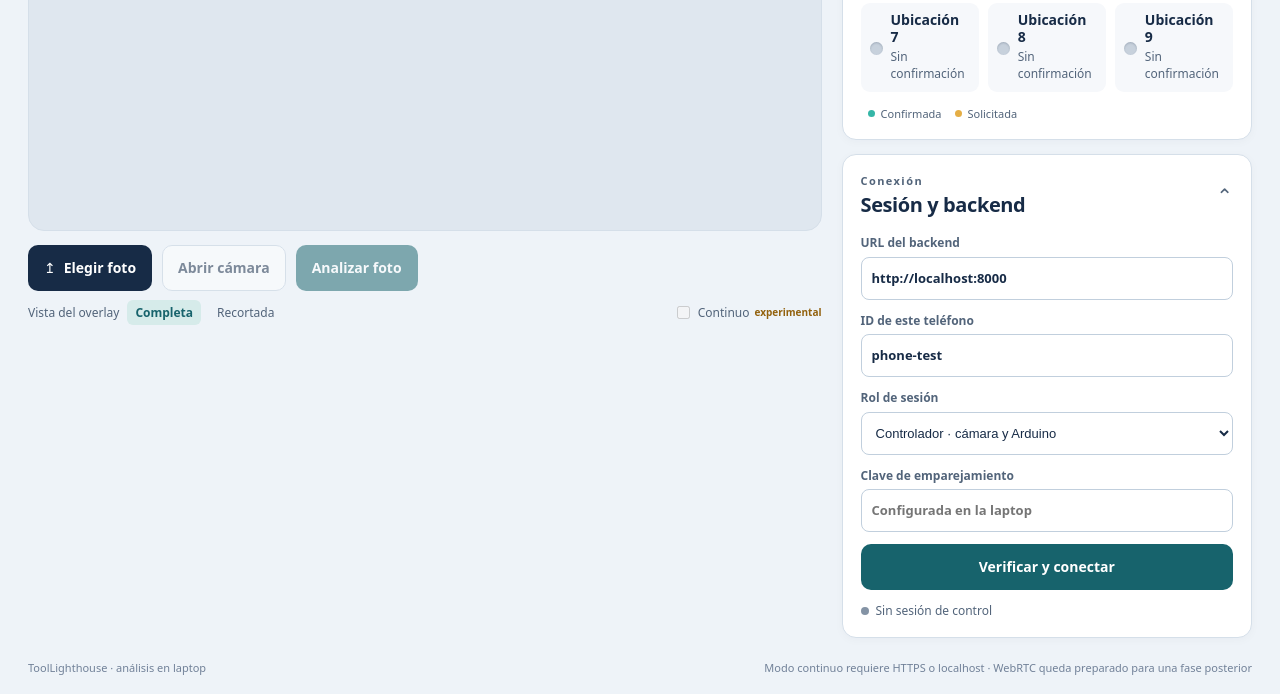
it: dashboard connection and camera lifecycle › stops a permission result that arrives after the session was released
(page scrolled)
Click the button "Verificar y conectar".
click(1047, 567)  # box [860,544,1233,590]
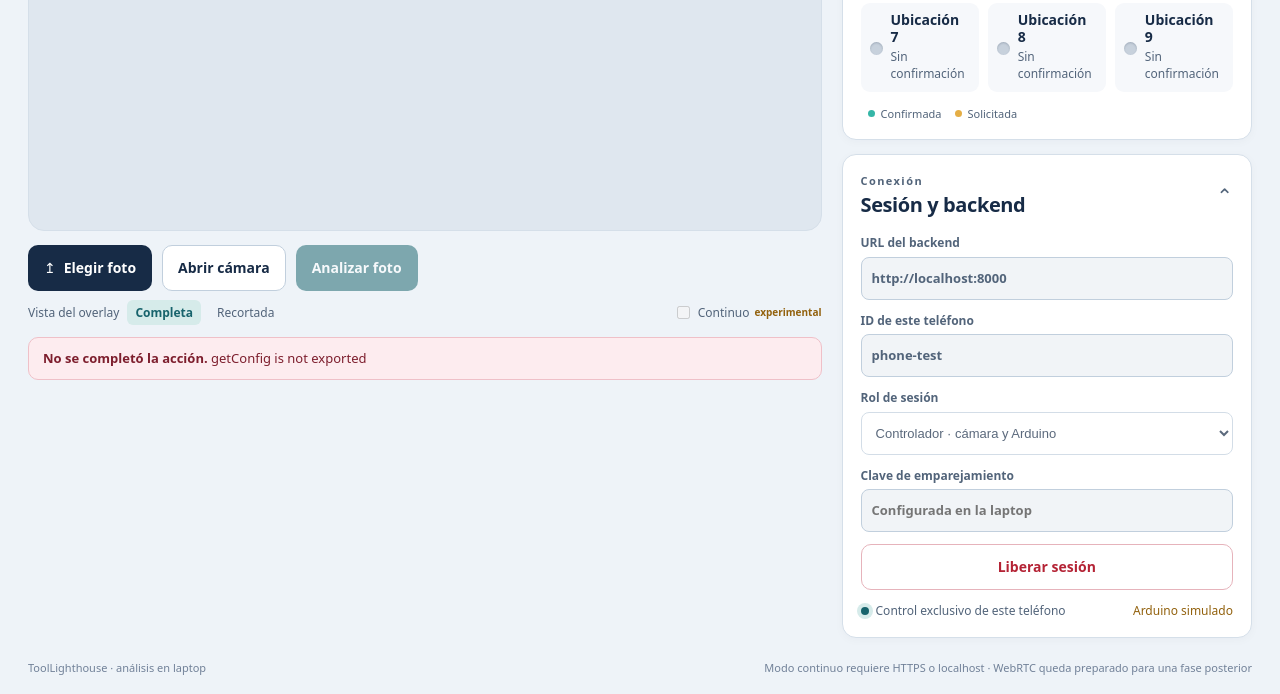
Check: the text "Control exclusivo de este teléfono" is shown, box [876,602,1066,619]
Click the button "Abrir cámara".
click(224, 268)  # box [162,245,286,291]
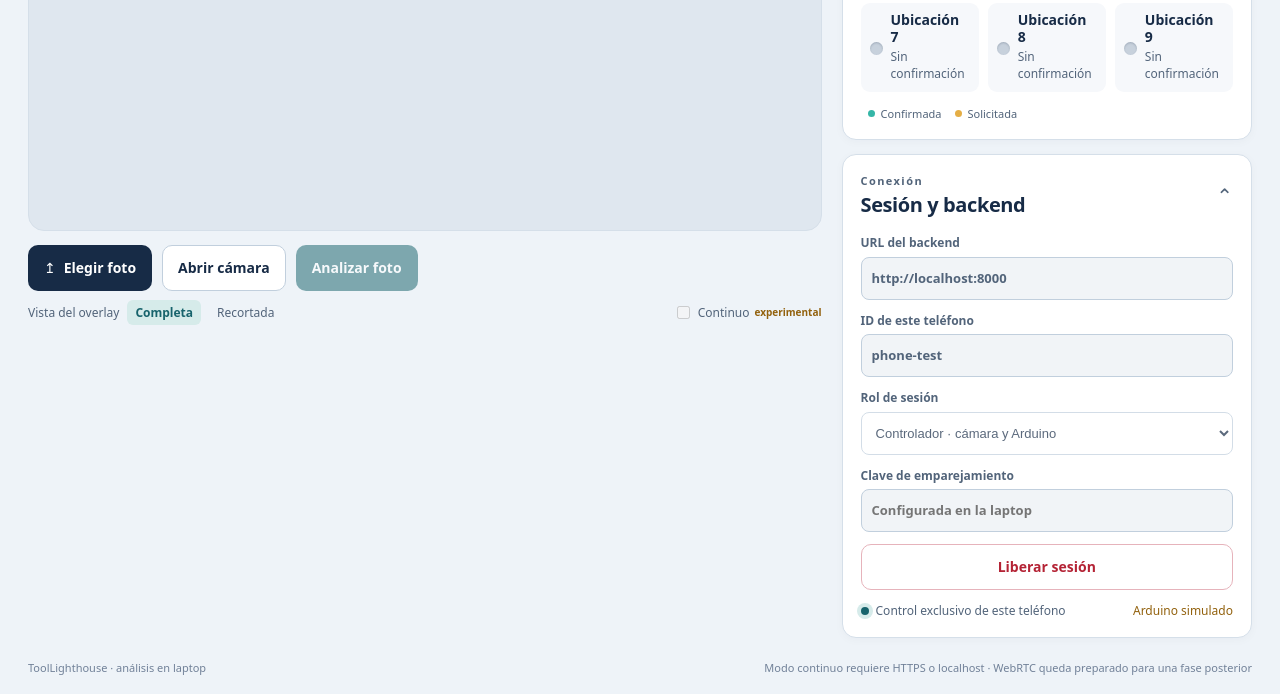
Click the button "Liberar sesión".
click(1047, 567)  # box [860,544,1233,590]
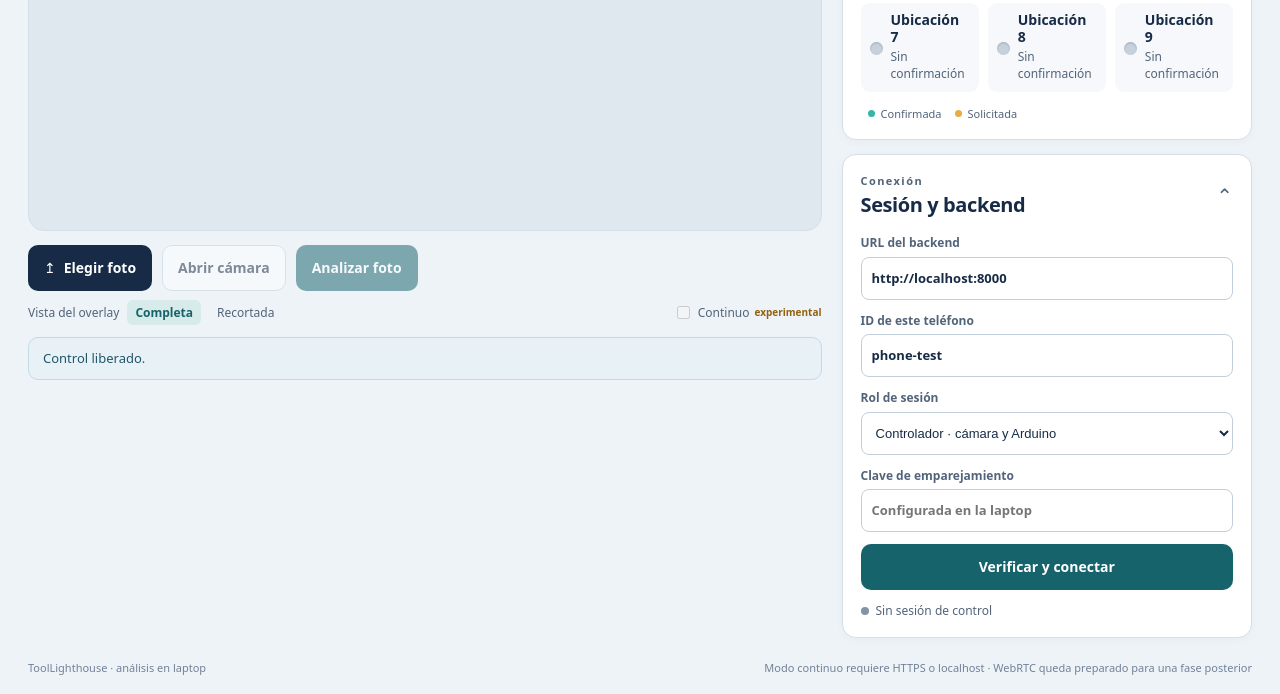
Check: the button "Abrir cámara" is disabled, box [162,245,286,291]
